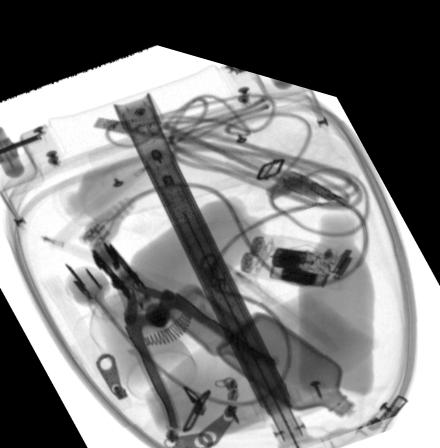Pliers: (92, 234, 277, 420)
